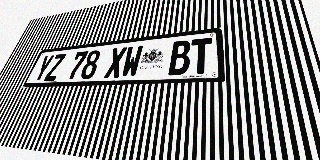7: (65, 51, 89, 80)
8: (79, 49, 102, 79)
B: (168, 40, 191, 75)
T: (190, 37, 212, 74)
W: (120, 45, 144, 77)
X: (104, 47, 127, 78)
Y: (32, 55, 55, 81)
Z: (44, 53, 67, 81)
